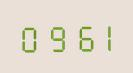nine: (42, 20, 65, 53)
one: (90, 19, 113, 52)
six: (66, 19, 89, 52)
zero: (18, 20, 41, 53)
